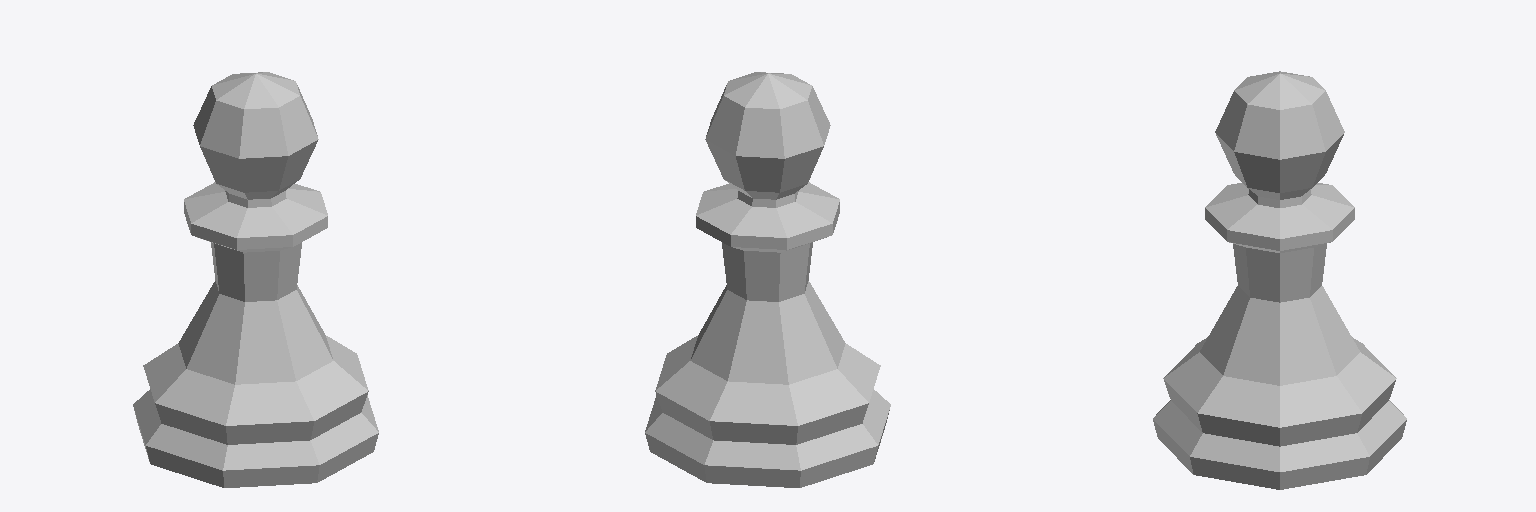
The model's file is pawn.obj.
3 renders of one model, left to right at view 1: azimuth 30°, elevation 25°; view 2: azimuth 150°, elevation 25°; view 3: azimuth 270°, elevation 25°, orthographic.
Parts seen in each view (by area): view 1: Chess_Pawn; view 2: Chess_Pawn; view 3: Chess_Pawn.
Boxes of the visible parts, x1,y1,x2,y2 form: Chess_Pawn: [133, 72, 378, 487]; Chess_Pawn: [645, 72, 890, 487]; Chess_Pawn: [1153, 71, 1406, 489].
Size of the model in its own units: 2.94 by 4.65 by 2.94.